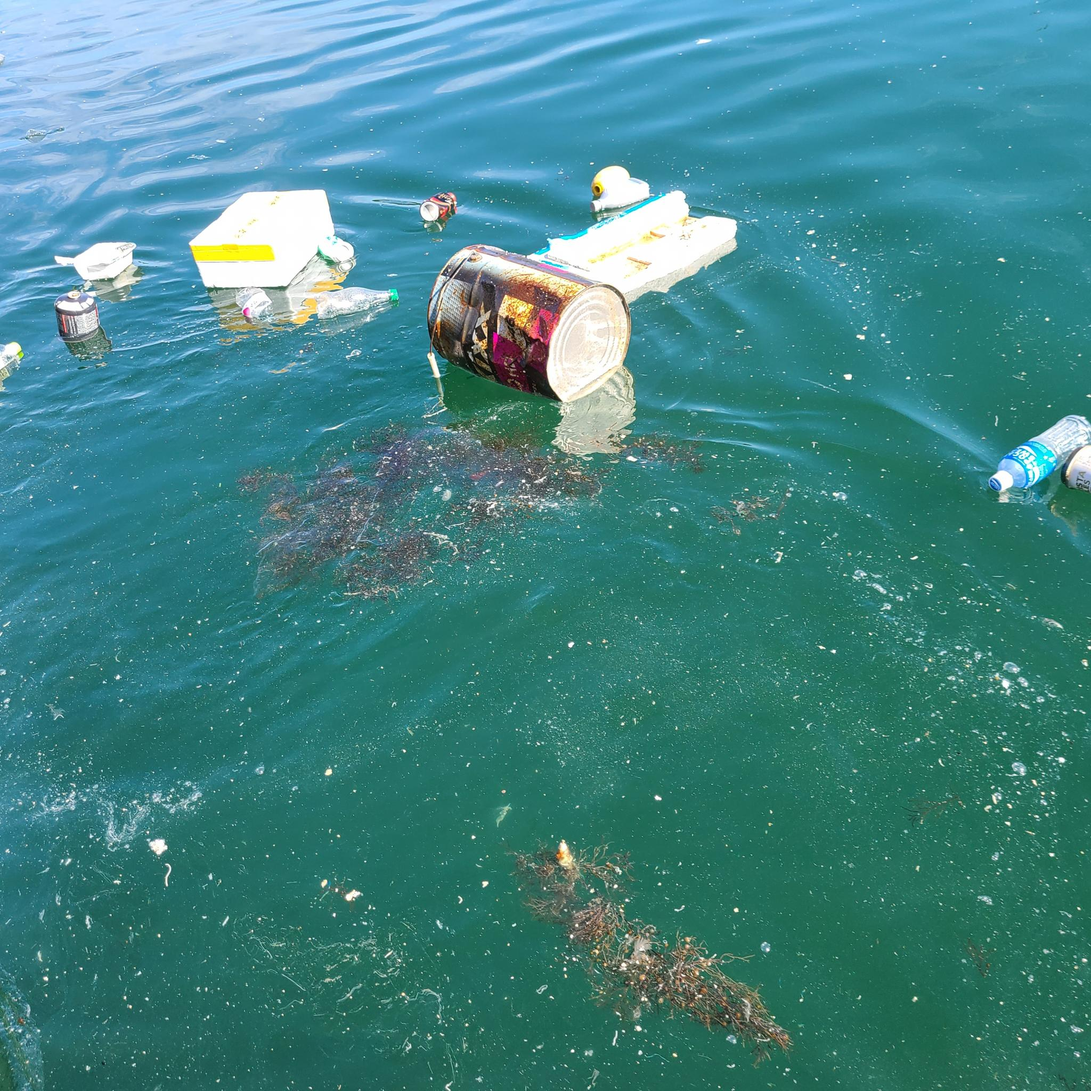sampah_terapung: (527, 191, 737, 304), (189, 191, 336, 289), (988, 414, 1091, 492), (315, 287, 399, 320), (55, 291, 102, 344), (591, 178, 650, 213), (236, 288, 277, 325), (1061, 448, 1091, 493), (592, 166, 631, 198), (420, 193, 457, 222), (319, 237, 355, 263), (1, 342, 22, 372), (26, 126, 65, 139)
